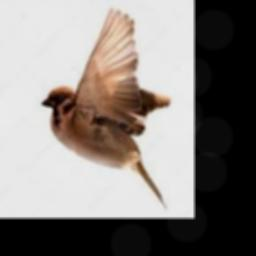Sparrow: (42, 6, 170, 208)
